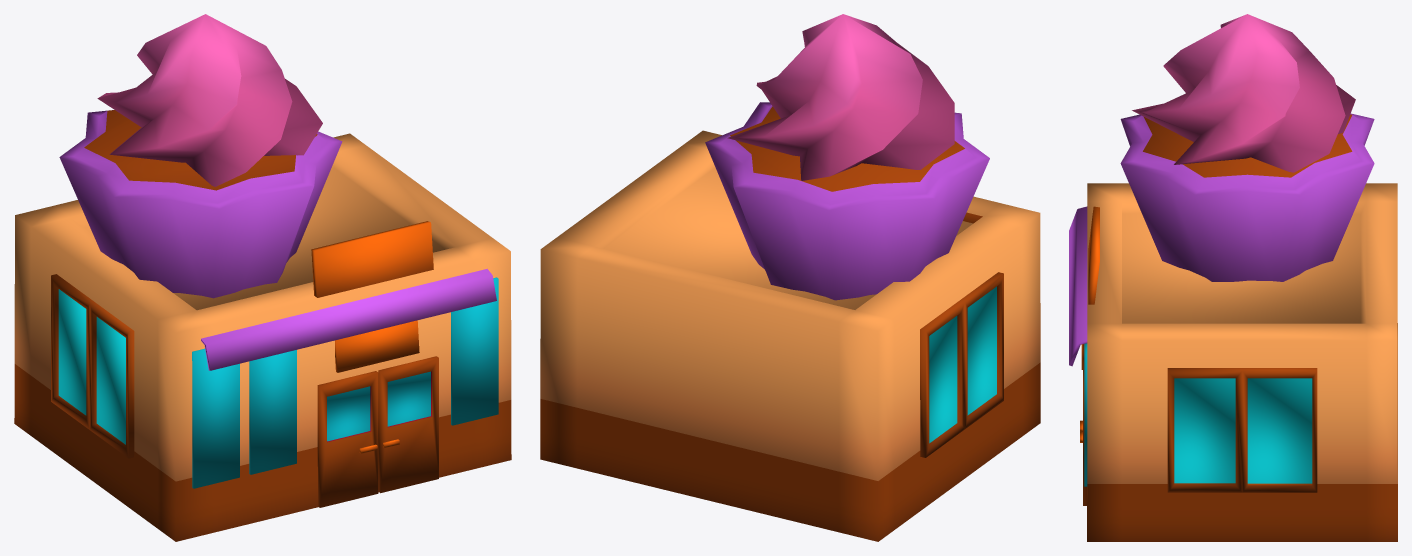
Rendered from CupcakeStore.fbx.
3 views of the same model, side by side, from view 1: azimuth 30°, elevation 25°; view 2: azimuth 150°, elevation 25°; view 3: azimuth 270°, elevation 25° (orthographic). The views are drawn at different scales.
Parts seen in each view (by area): view 1: CupcakeStore; view 2: CupcakeStore; view 3: CupcakeStore.
Boxes of the visible parts, x1,y1,x2,y2 form: CupcakeStore: [14, 14, 511, 541]; CupcakeStore: [540, 14, 1040, 541]; CupcakeStore: [1069, 14, 1397, 541].
Bounding box in the file's own units: 348 × 420 × 296.
